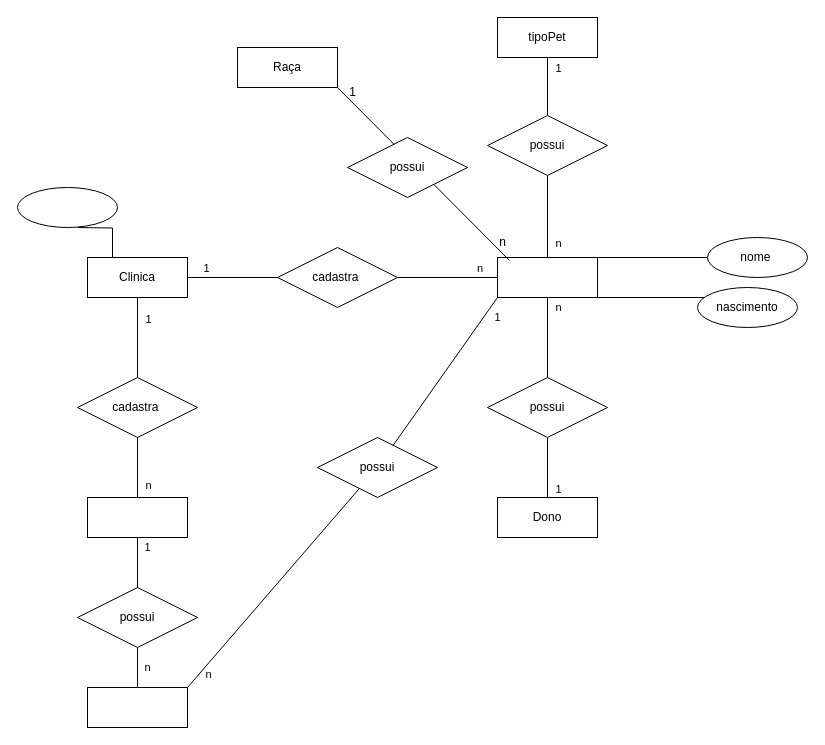
This 825x745 diagram has some shape labels left out. Each missing label, with the centre of its shape:
Atendimento: the point at 137,707
Endereço: the point at 67,207
Pet: the point at 547,277
Veterinário: the point at 137,517
